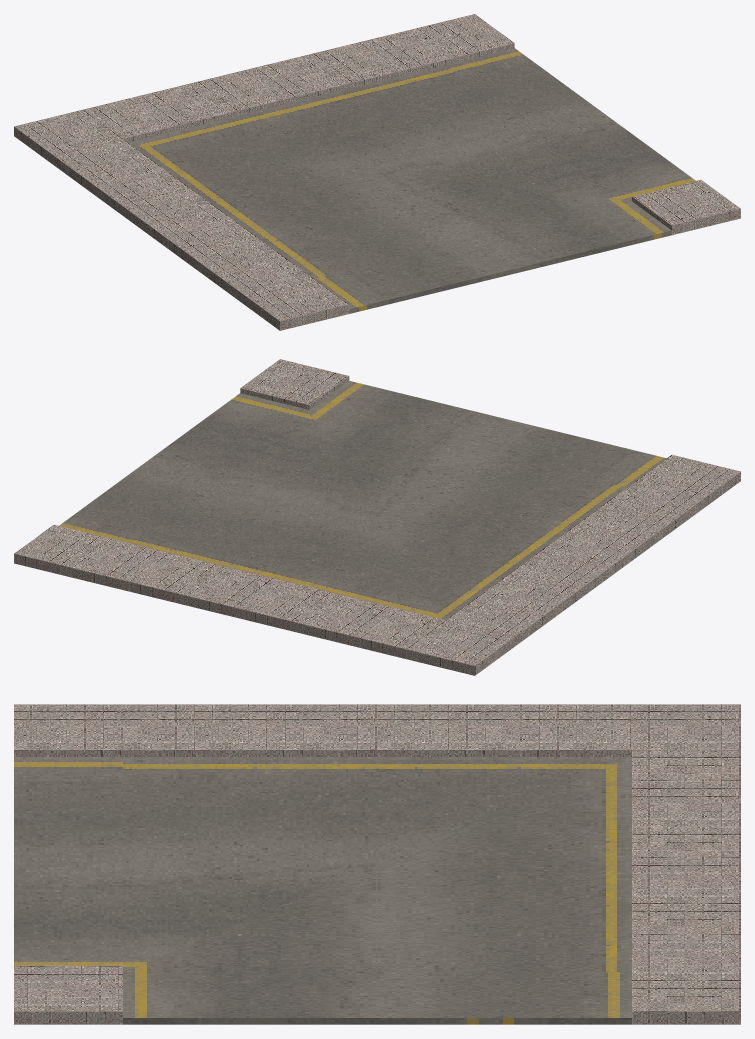
Rendered from road_2_corner.glb.
3 renders of one model, top to bottom at view 1: azimuth 30°, elevation 25°; view 2: azimuth 150°, elevation 25°; view 3: azimuth 270°, elevation 25°, orthographic. The views are drawn at different scales.
Parts seen in each view (by area): view 1: road_2_corner; view 2: road_2_corner; view 3: road_2_corner.
Boxes of the visible parts, x1,y1,x2,y2 form: road_2_corner: [14, 14, 740, 330]; road_2_corner: [14, 359, 740, 675]; road_2_corner: [14, 704, 740, 1024].
Size of the model in its own units: 16 by 0.32 by 16.
Materials: 2 (2 with a texture image).
